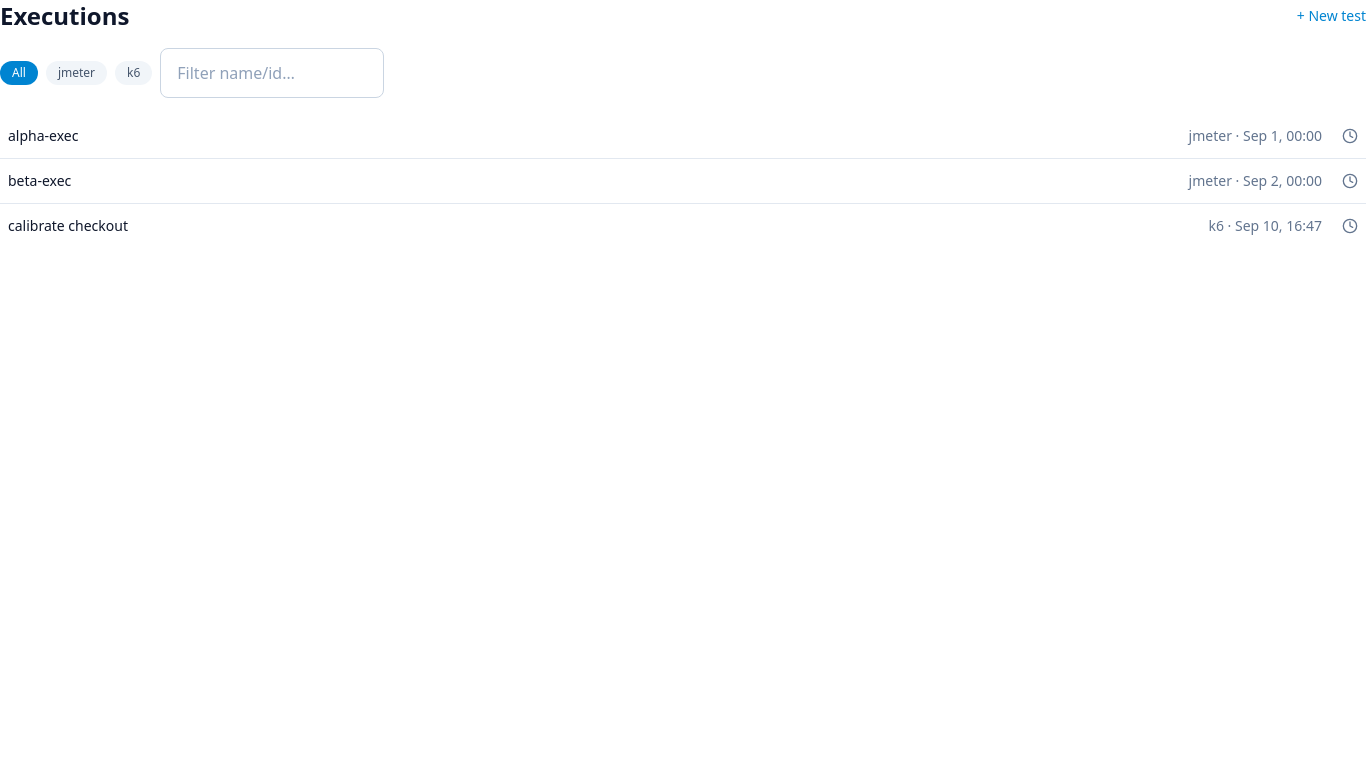
it: Executions schedule drawer (phase 108) › opens the drawer for the clicked row and closes cleanly
What coordinates should you click on to do the following:
click the button with test id "schedule-button-7"
I would click on:
 (1350, 136)
Its box is x1=1334 y1=120 x2=1365 y2=152.
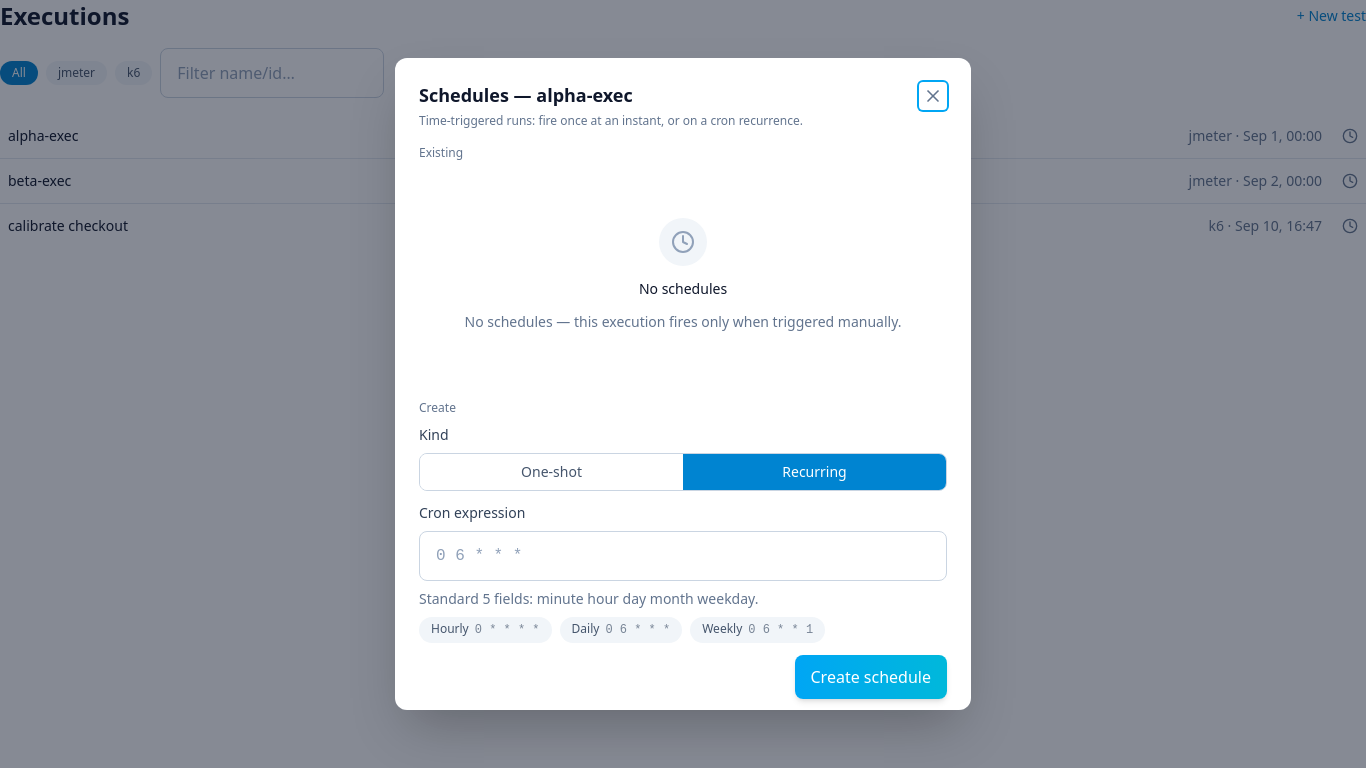
Now the dialog with test id "schedule-drawer" is shown, box x1=395 y1=58 x2=971 y2=710
Now the dialog with test id "schedule-drawer" shows "Schedules — alpha-exec", box x1=419 y1=83 x2=633 y2=107
Now the element with test id "schedule-empty" is shown, box x1=464 y1=218 x2=902 y2=331
What coordinates should you click on to do the following:
click the button named "Close schedule drawer"
I would click on:
 (933, 96)
Its box is x1=919 y1=82 x2=947 y2=110.
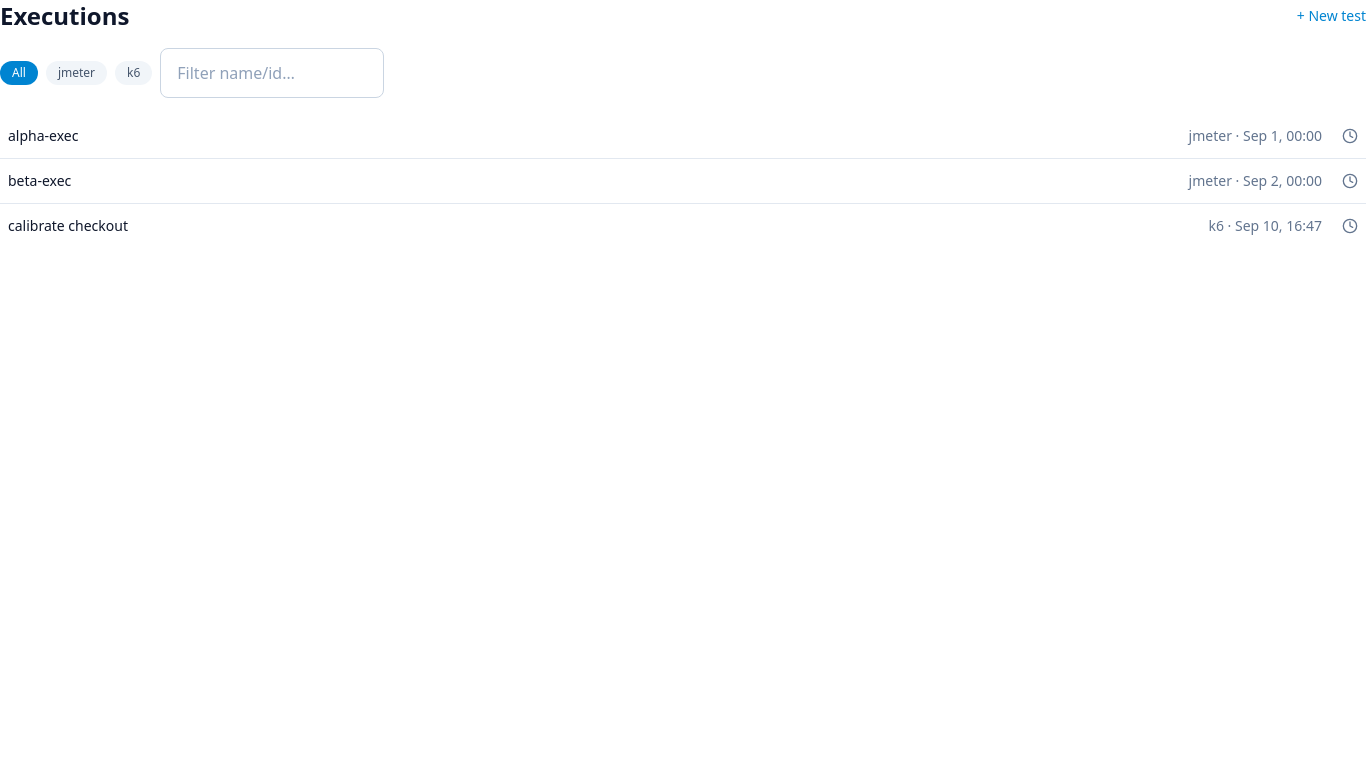
Expected: the link to "/executions/7" is shown, x1=8 y1=126 x2=1322 y2=145
Now the dialog with test id "schedule-drawer" is gone
